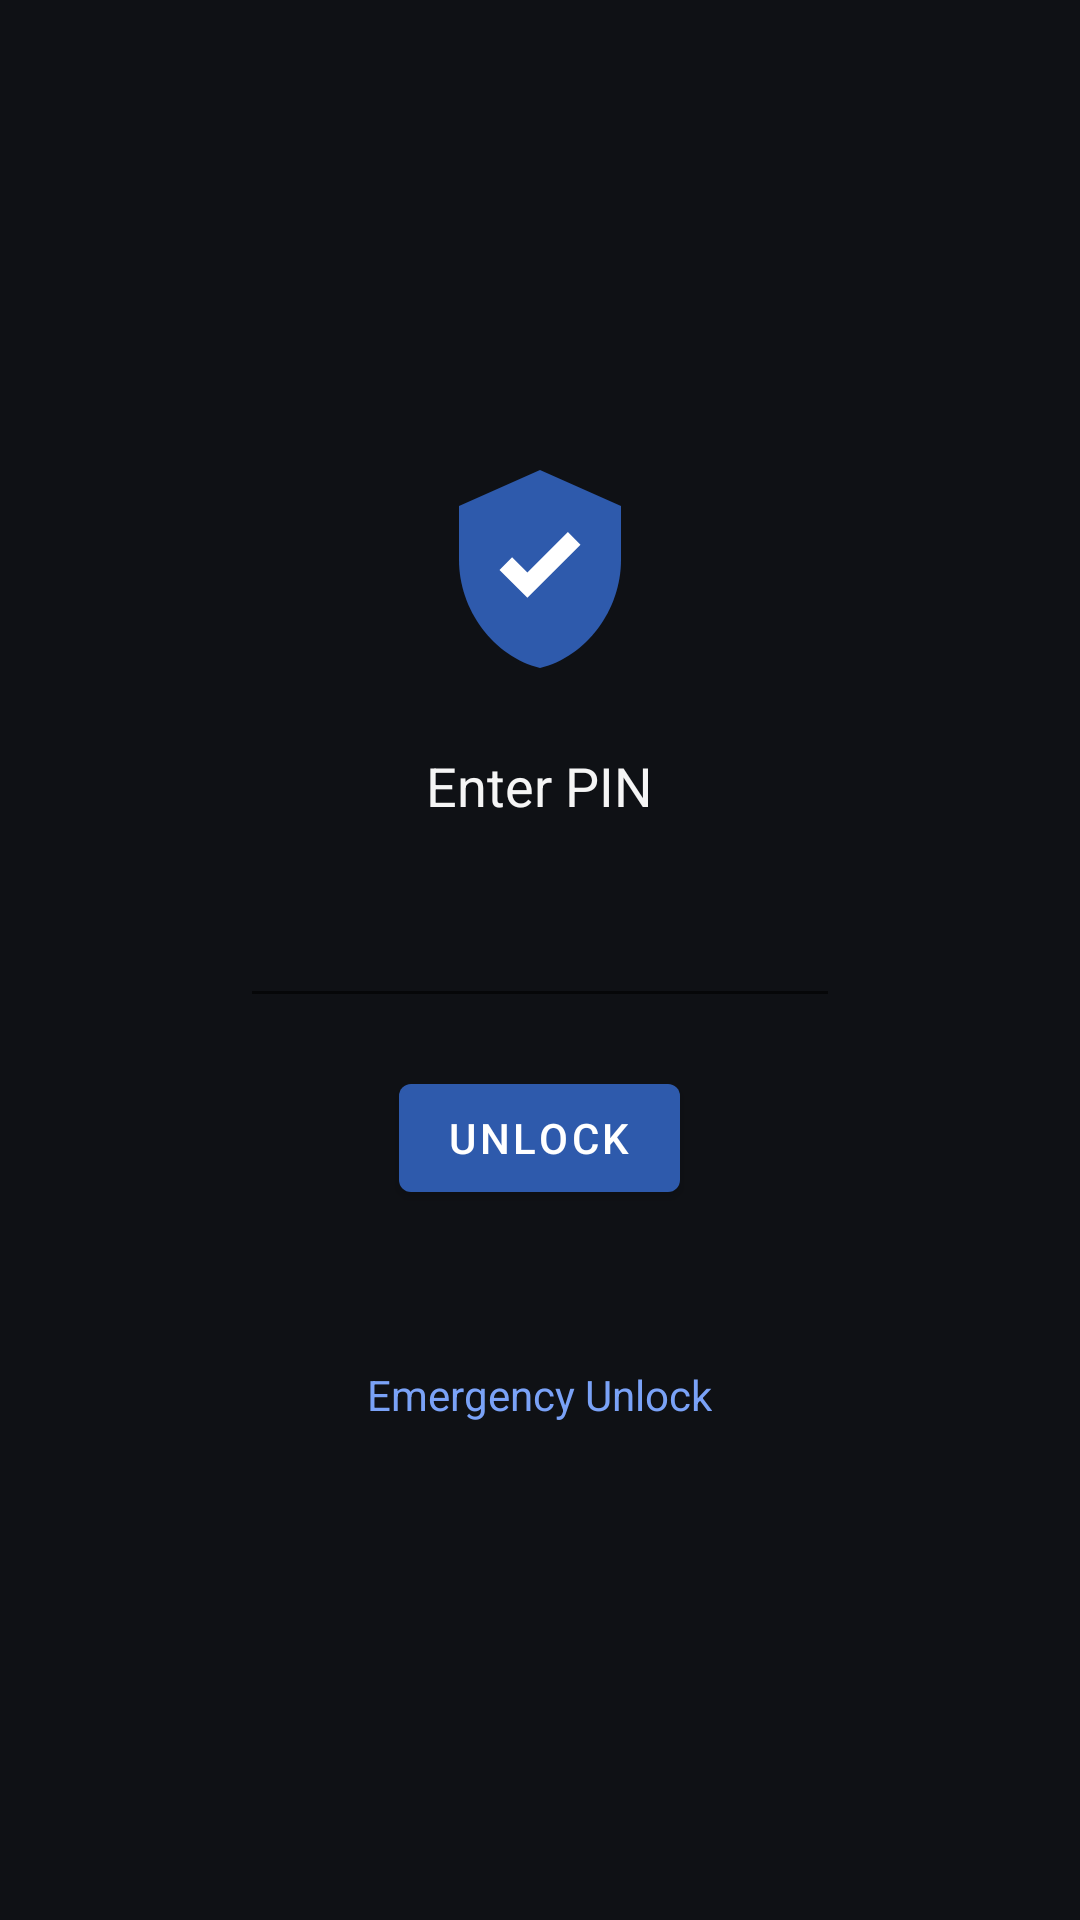

Named icons in this screenshot (1080x1920) and their bounding boxes, (x1, y1, x2, y2):
shield: (459, 470, 621, 668)
